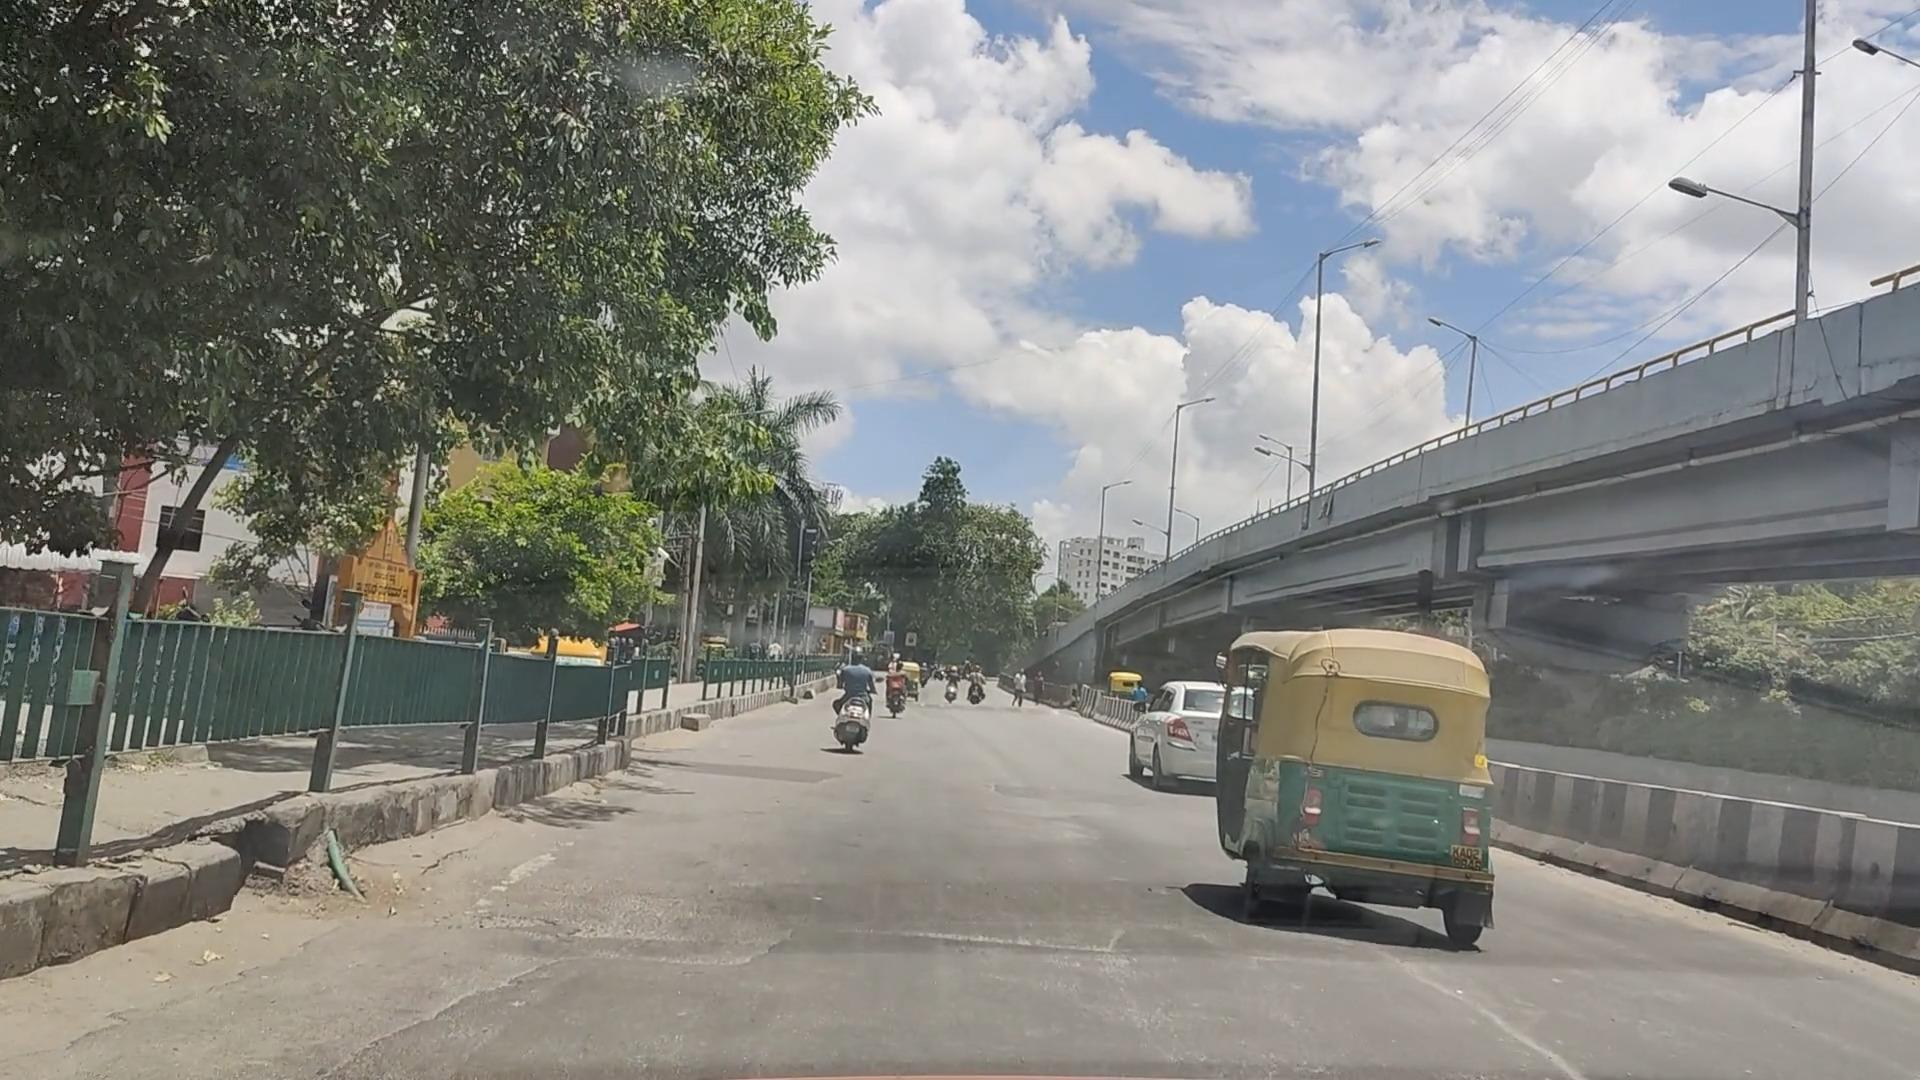LMV: (1250, 641, 1510, 942)
RoadDamages: (556, 865, 789, 964), (1319, 977, 1596, 1043), (909, 884, 1126, 956)
